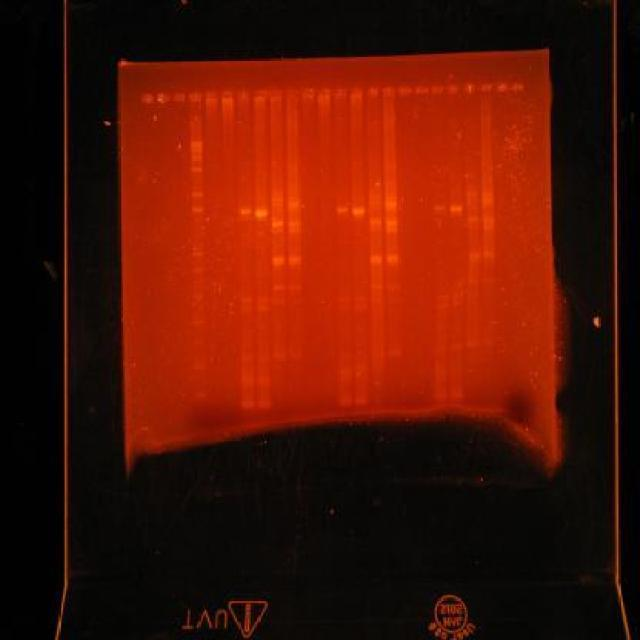B: (238, 372, 256, 388), (337, 366, 352, 384), (256, 373, 272, 389), (448, 389, 466, 402), (338, 394, 353, 408), (354, 395, 369, 408), (256, 398, 272, 410), (432, 390, 448, 401), (254, 208, 268, 220), (240, 398, 254, 410), (383, 218, 399, 228), (337, 294, 352, 304), (467, 252, 481, 262), (449, 342, 463, 352), (354, 302, 368, 312), (352, 207, 366, 216), (449, 203, 463, 212), (256, 304, 270, 313), (239, 353, 253, 362), (436, 301, 450, 310), (337, 304, 352, 312), (433, 204, 447, 212), (368, 217, 382, 225), (270, 220, 284, 228), (239, 296, 253, 304), (239, 304, 253, 312), (272, 297, 286, 305), (384, 200, 398, 208), (388, 349, 402, 357), (288, 296, 302, 304), (482, 216, 496, 224), (369, 282, 383, 290), (386, 283, 400, 291), (354, 295, 368, 303), (436, 294, 450, 302), (336, 205, 349, 213), (481, 190, 494, 198), (466, 216, 479, 224), (452, 299, 465, 307), (466, 278, 479, 286), (238, 208, 252, 215), (272, 352, 286, 359), (288, 352, 302, 359), (466, 341, 480, 348), (288, 220, 300, 228), (384, 228, 398, 234), (272, 256, 286, 262), (288, 260, 302, 266), (288, 284, 302, 290), (256, 298, 270, 304), (466, 191, 480, 197), (466, 198, 480, 204), (286, 202, 300, 208), (368, 193, 382, 199), (384, 196, 398, 202), (272, 286, 285, 292), (481, 198, 494, 204), (482, 250, 495, 256), (482, 277, 495, 283), (482, 224, 495, 230), (466, 226, 479, 232), (271, 196, 284, 202), (452, 293, 465, 299), (368, 200, 381, 206), (370, 260, 382, 266), (288, 228, 300, 234), (288, 256, 302, 261), (386, 255, 399, 260), (386, 260, 399, 265), (271, 202, 284, 207), (370, 255, 382, 260), (368, 228, 382, 232), (270, 262, 284, 266)
L: (135, 76, 528, 110)
M: (187, 88, 206, 406)
P: (188, 139, 202, 150), (192, 363, 206, 372), (192, 391, 206, 400), (190, 204, 203, 213), (190, 190, 203, 198), (191, 266, 204, 274), (191, 292, 204, 300), (192, 318, 205, 324), (192, 251, 205, 257), (190, 166, 202, 172), (189, 150, 203, 155), (190, 155, 202, 160)
Pc: (333, 86, 349, 100), (494, 80, 509, 94), (316, 86, 332, 99), (156, 92, 170, 106), (398, 85, 413, 98), (204, 91, 219, 104), (268, 88, 284, 100), (220, 90, 236, 102), (172, 92, 186, 105), (366, 86, 380, 99), (350, 86, 364, 99), (461, 83, 477, 94), (381, 86, 397, 97), (300, 88, 316, 99), (284, 88, 300, 99), (140, 94, 154, 106), (446, 84, 460, 96), (478, 83, 493, 94), (188, 92, 202, 103), (510, 81, 524, 92), (430, 85, 444, 96), (414, 85, 428, 96), (252, 89, 266, 100), (236, 89, 250, 100)
